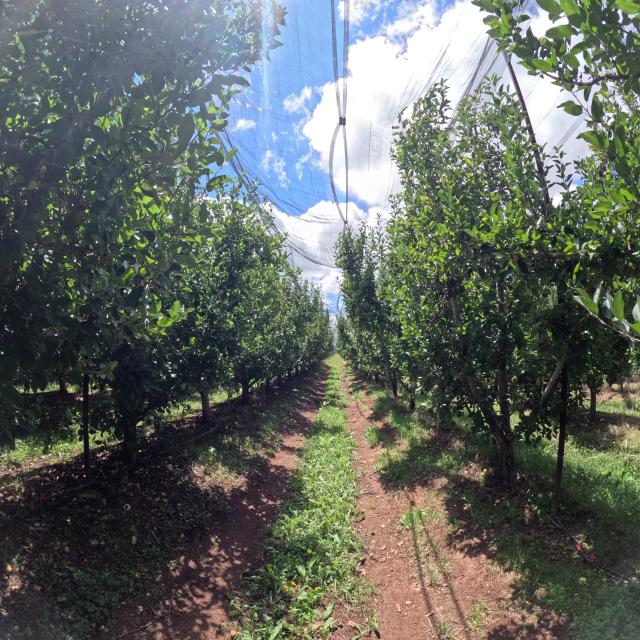-FireBlight-: (422, 265, 456, 327)
